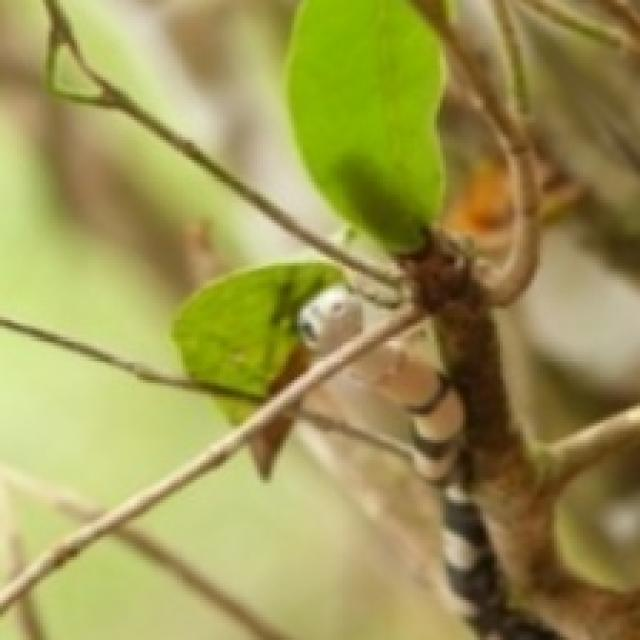king cobra: (352, 345, 559, 640), (299, 288, 362, 353)
